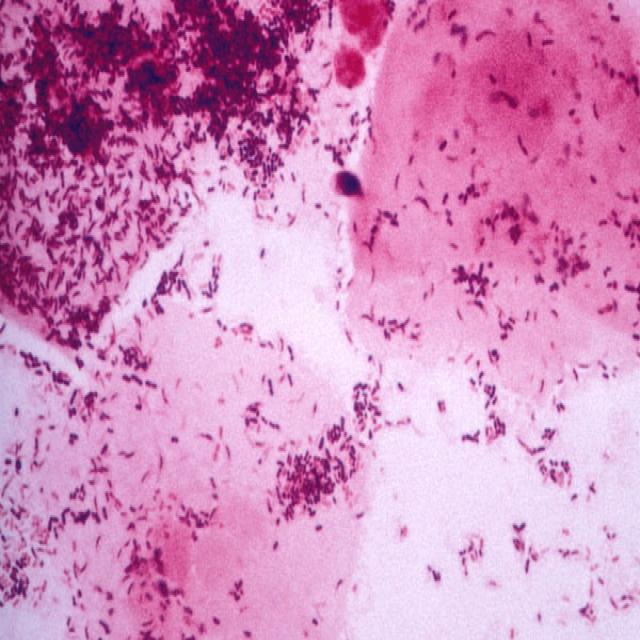Rod_bacteria: (1, 2, 640, 640)
